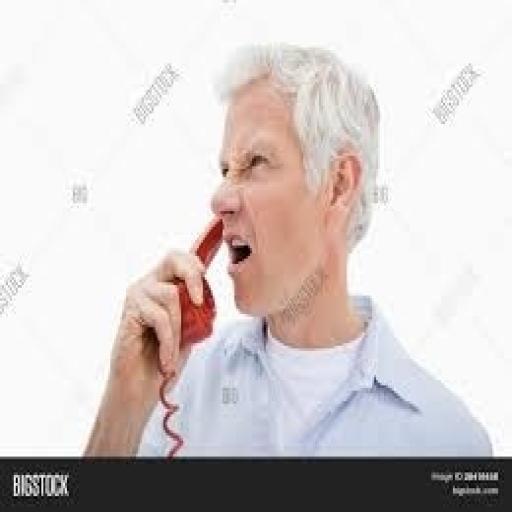calling: (79, 37, 494, 459)
